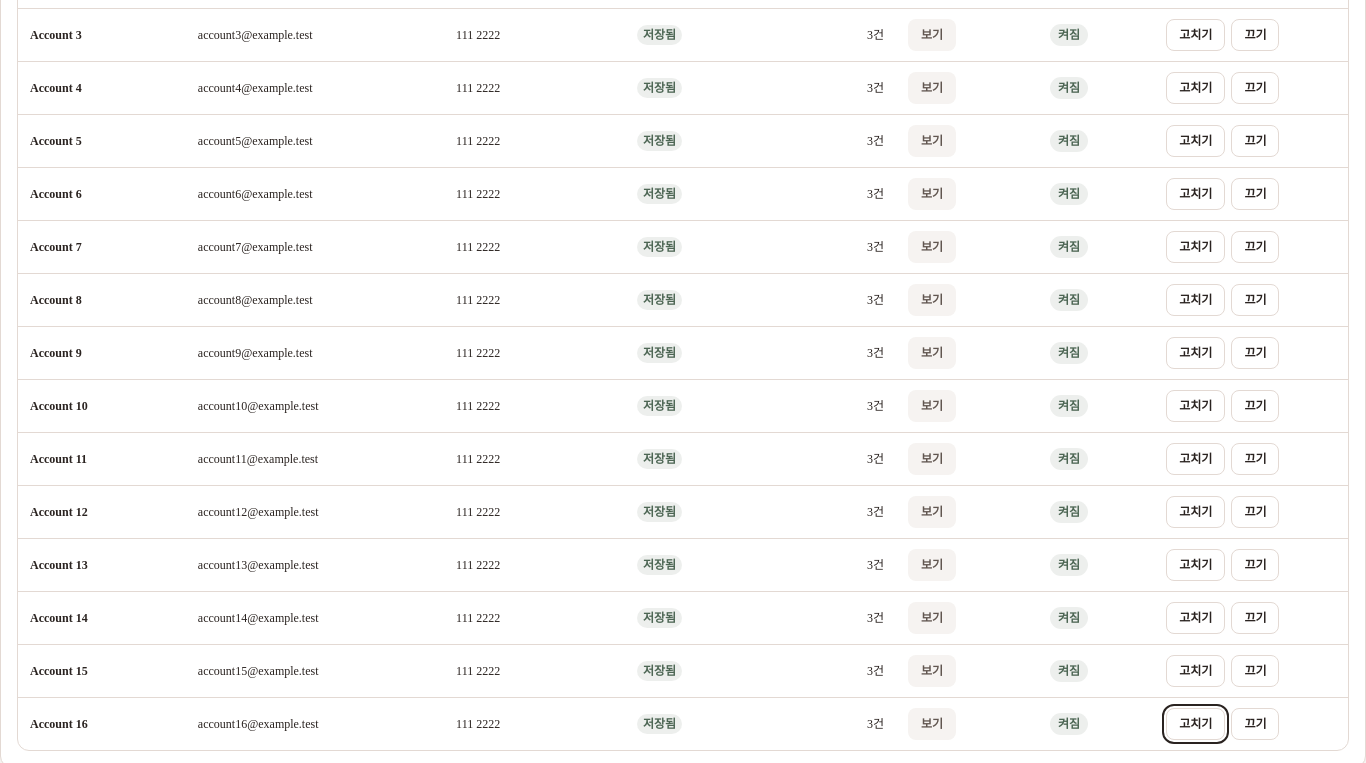
Test: 긴 목록의 마지막 계정에서 고치기를 누르면 이름 입력으로 초점을 옮긴다
This screenshot has width=1366, height=763.
(page scrolled)
Expected: the text "account16@example.test" is shown, x1=186 y1=697 x2=444 y2=750
Click the button "고치기" in the row of "Account 16" at {"x": 1196, "y": 724}, box x1=1166 y1=708 x2=1225 y2=740
(page scrolled)
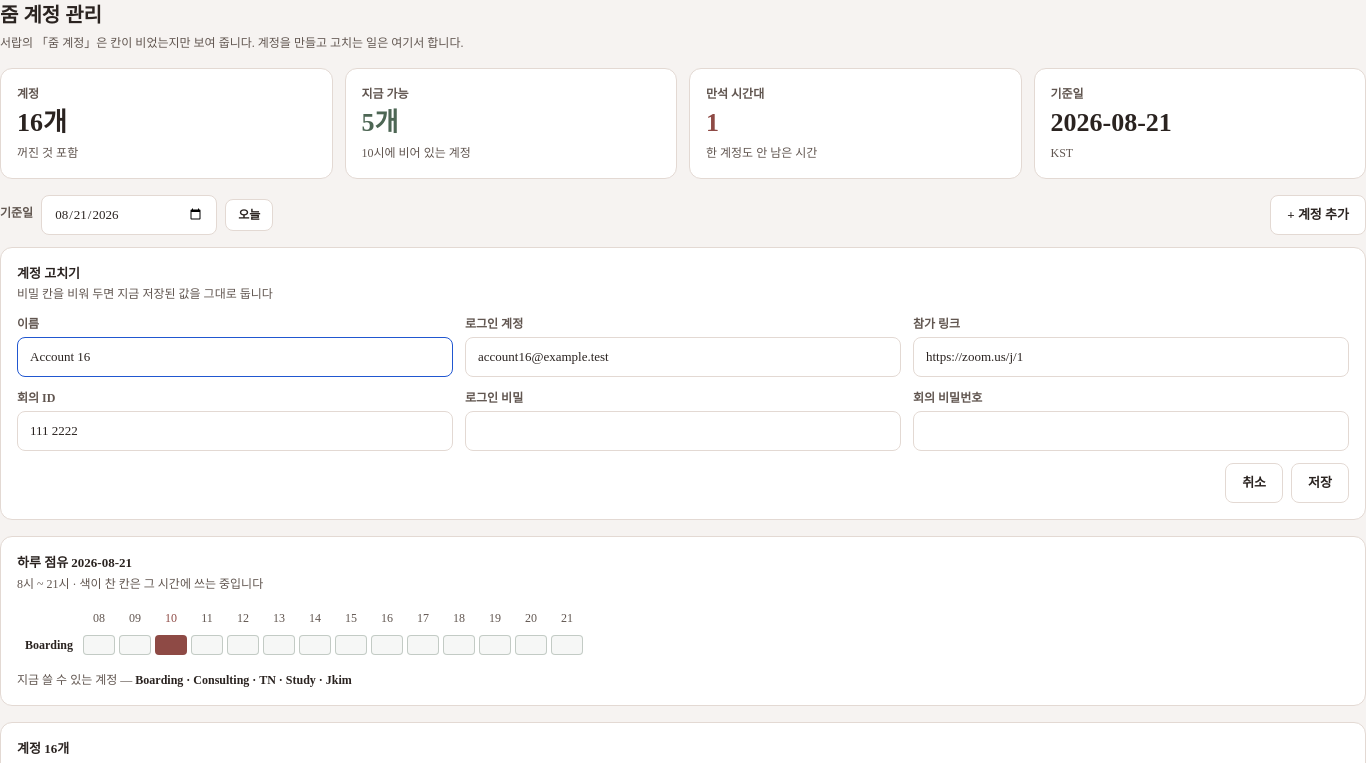
Expected: the field labelled "이름" holds "Account 16", x1=17 y1=337 x2=453 y2=377
